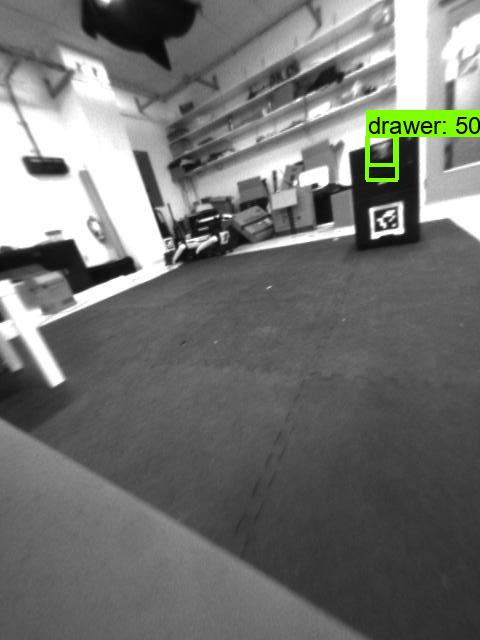drawer: (367, 140, 398, 165)
